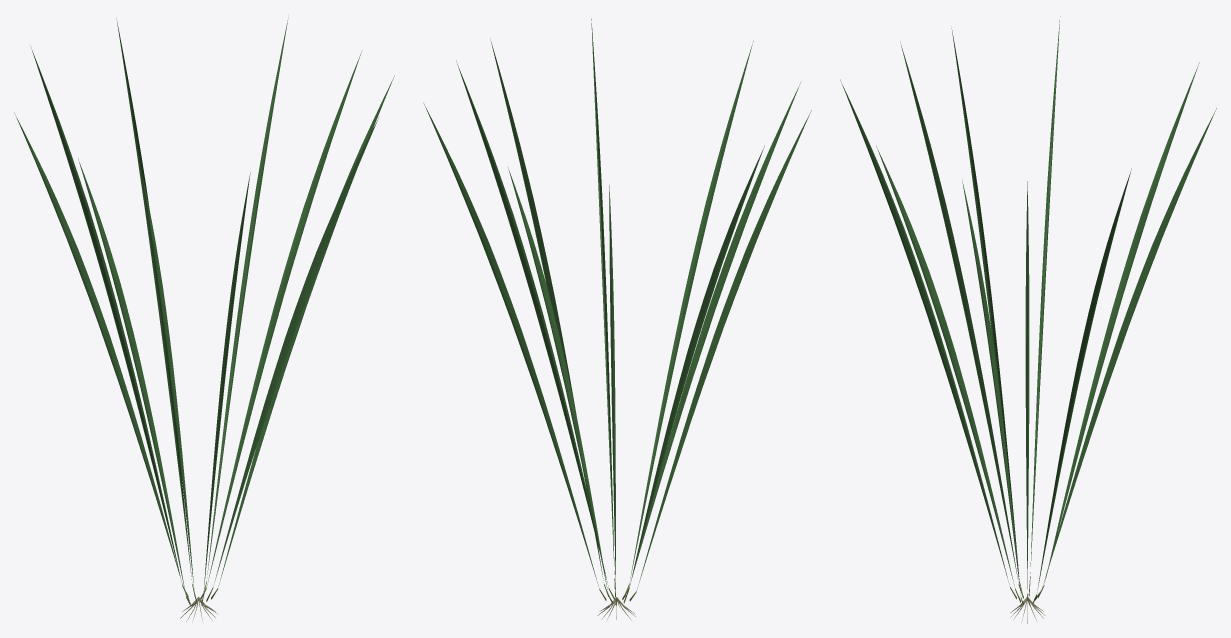
The model's file is vallisgiant-mobile.glb.
3 renders of one model, left to right at view 1: azimuth 30°, elevation 25°; view 2: azimuth 150°, elevation 25°; view 3: azimuth 270°, elevation 25°, orthographic. The views are drawn at different scales.
Visible parts, largest first — view 1: blade; view 2: blade; view 3: blade.
Part boxes in pixels (box(x1,y1,x2,y2)): blade: box(14, 17, 394, 596); blade: box(423, 18, 811, 594); blade: box(840, 16, 1216, 595).
Bounding box in the file's own units: 0.7511 × 1.15 × 0.7561.
